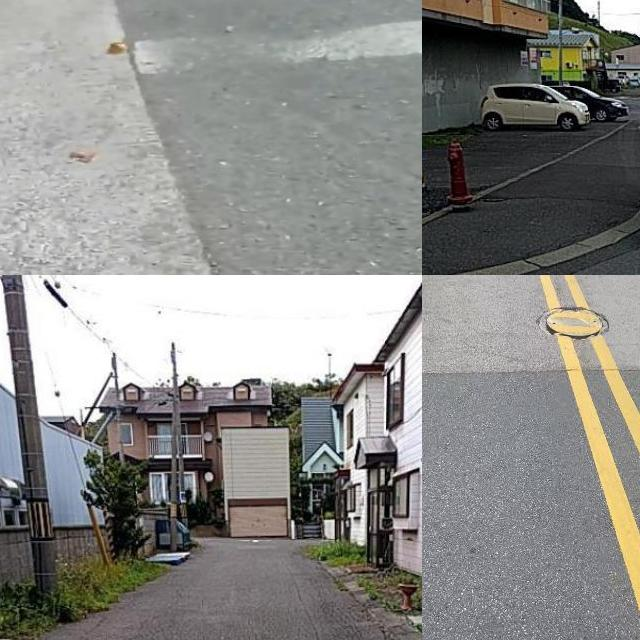Sambungan: (0, 0, 223, 275), (422, 373, 640, 640)
